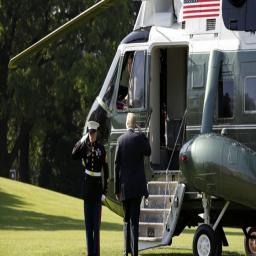helicopter: (9, 3, 256, 255)
